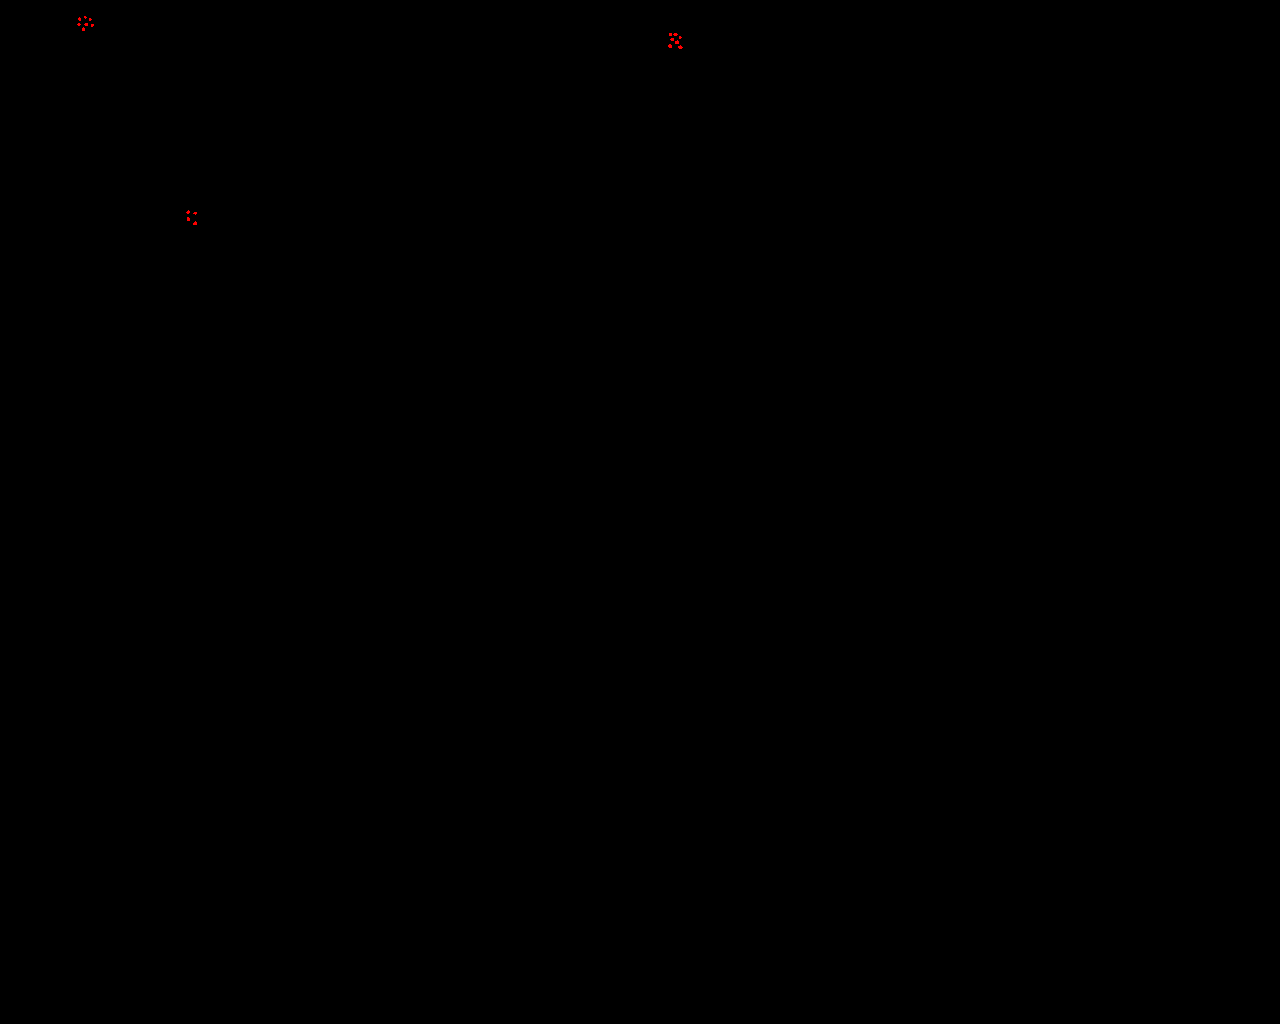Target: (678, 45, 683, 49), (675, 40, 679, 44), (668, 44, 672, 48), (186, 210, 190, 214), (78, 17, 82, 21), (77, 23, 82, 26), (84, 23, 88, 26), (82, 27, 85, 31), (670, 38, 674, 41), (193, 212, 197, 215), (187, 217, 190, 222), (193, 222, 197, 225), (673, 33, 678, 36), (84, 16, 87, 19), (89, 18, 92, 21), (91, 24, 94, 27), (679, 36, 682, 39), (669, 33, 672, 36)
